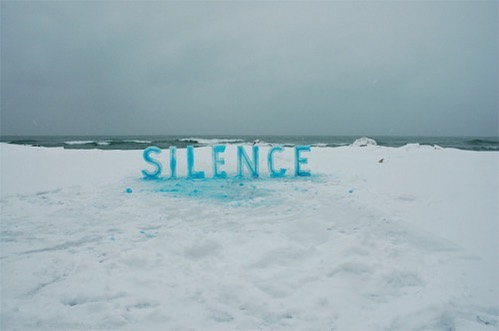sign: (143, 143, 310, 177)
sky: (1, 1, 499, 133)
